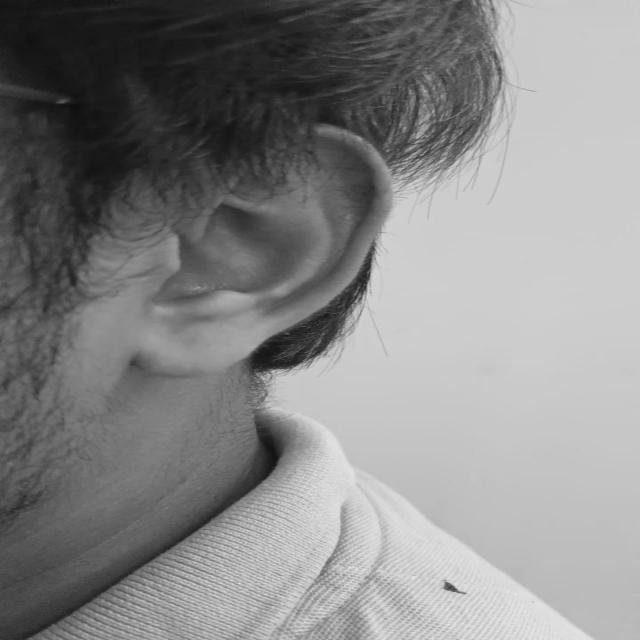ear: (132, 125, 390, 376)
